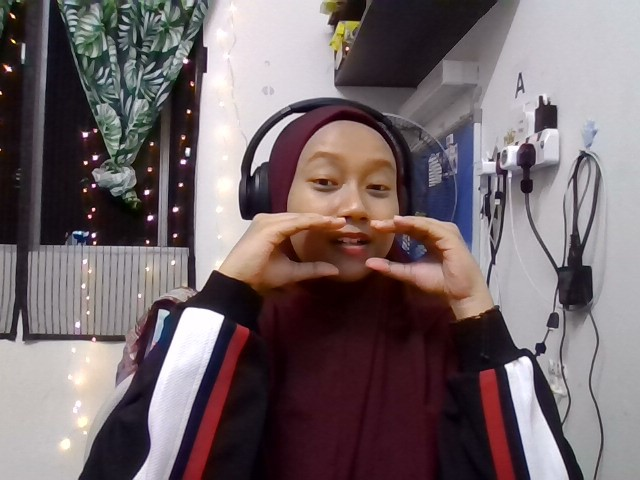Burger: (219, 211, 492, 299)
